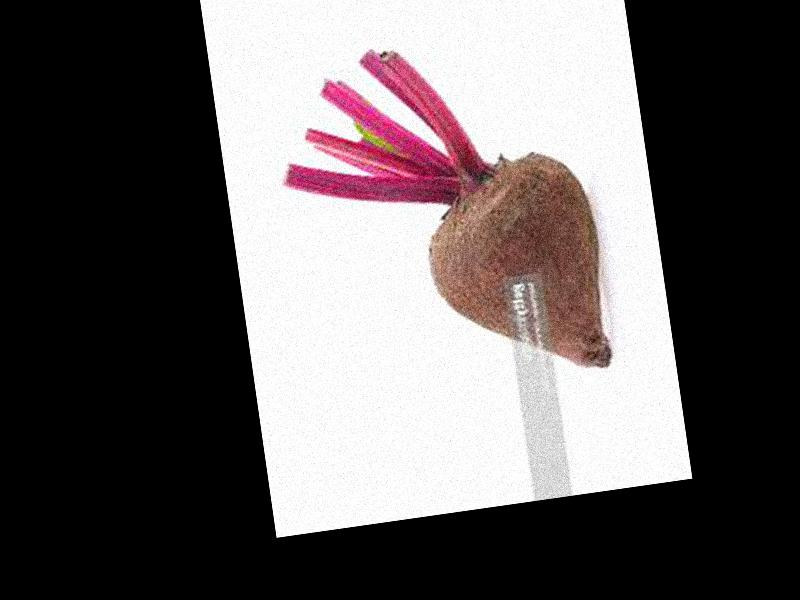Beet: (267, 21, 614, 408)
